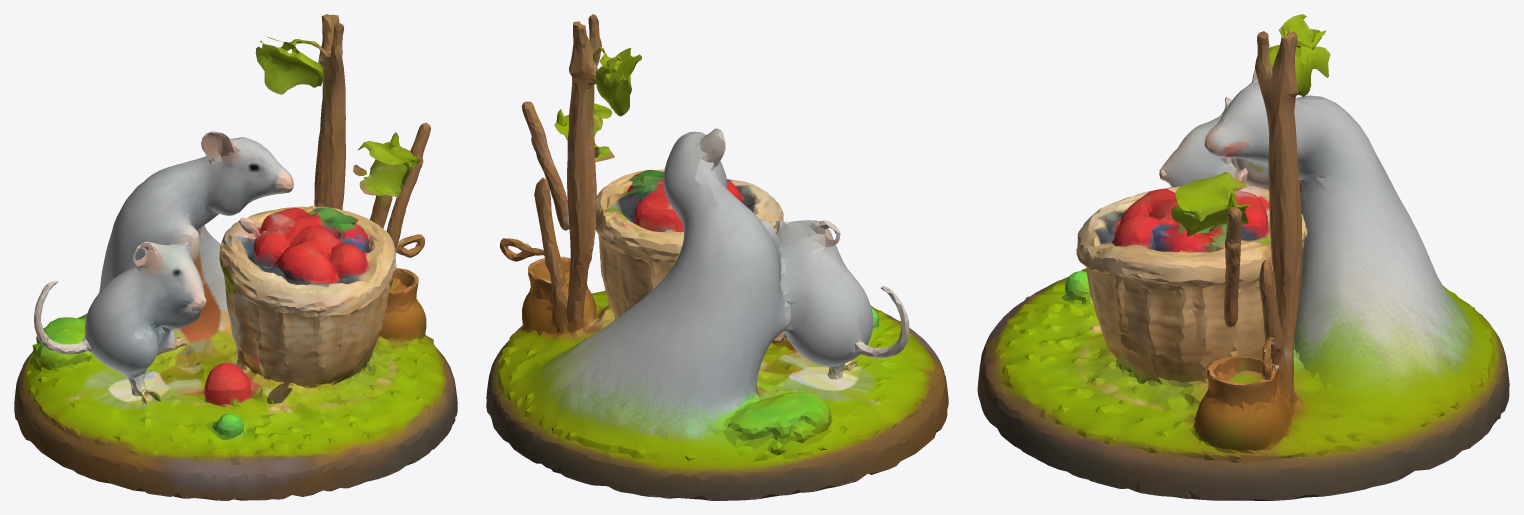
3 views of the same model, side by side, from view 1: azimuth 30°, elevation 25°; view 2: azimuth 150°, elevation 25°; view 3: azimuth 270°, elevation 25° (orthographic). The views are drawn at different scales.
Parts seen in each view (by area): view 1: HarvestBounty; view 2: HarvestBounty; view 3: HarvestBounty.
Part boxes in pixels (x1=…): HarvestBounty: x1=14, y1=14, x2=457, y2=500; HarvestBounty: x1=486, y1=14, x2=948, y2=500; HarvestBounty: x1=977, y1=14, x2=1509, y2=500.
Bounding box in the file's own units: 1.89 × 1.61 × 1.85.
1 material, 1 textured.
